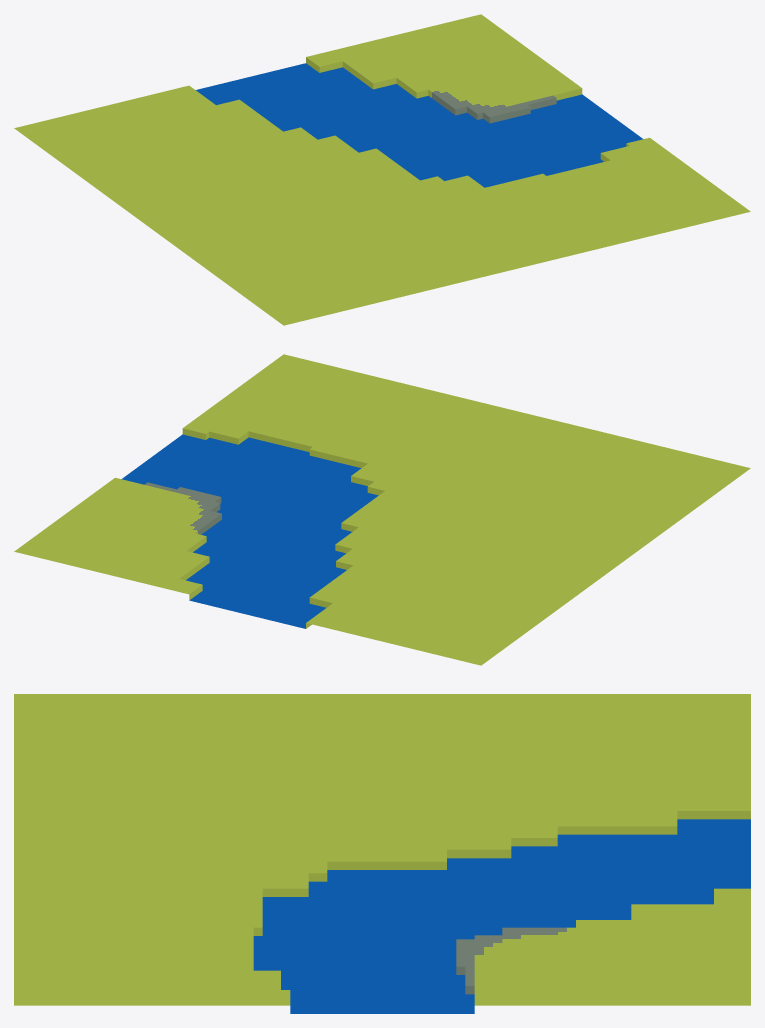
File: MMMMR96(2).glb
3 renders of one model, top to bottom at view 1: azimuth 30°, elevation 25°; view 2: azimuth 150°, elevation 25°; view 3: azimuth 270°, elevation 25°, orthographic. The views are drawn at different scales.
Visible parts, largest first — view 1: model_0.043; view 2: model_0.043; view 3: model_0.043.
Part boxes in pixels (x1,y1,x2,y2): model_0.043: [14, 14, 750, 325]; model_0.043: [14, 354, 750, 665]; model_0.043: [14, 694, 750, 1013].
Size of the model in its own units: 80 by 1 by 80.
Materials: 1 (1 with a texture image).
